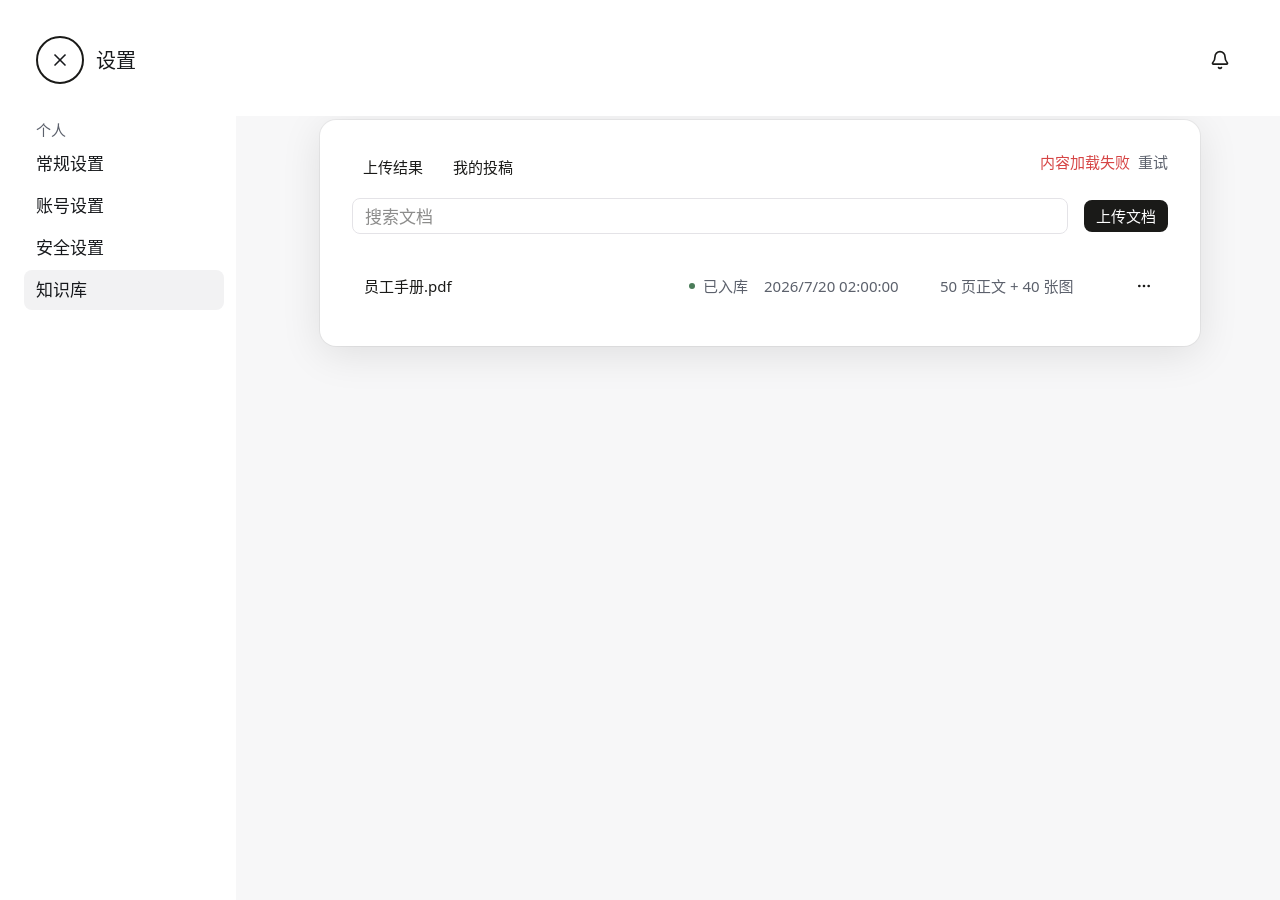
it: 抽屉作用域挂载与左栏新显示名（drawer-visual-system） › 抽屉内打开的 Radix 浮层根节点自带作用域属性（浮层不走 DOM 继承）
Note: 文档行「⋯」菜单：Radix DropdownMenu 默认 portal 到 document.body
Click the button named "文档 员工手册.pdf 操作" at x=1144, y=286, box left=1132, top=274, right=1156, bottom=298
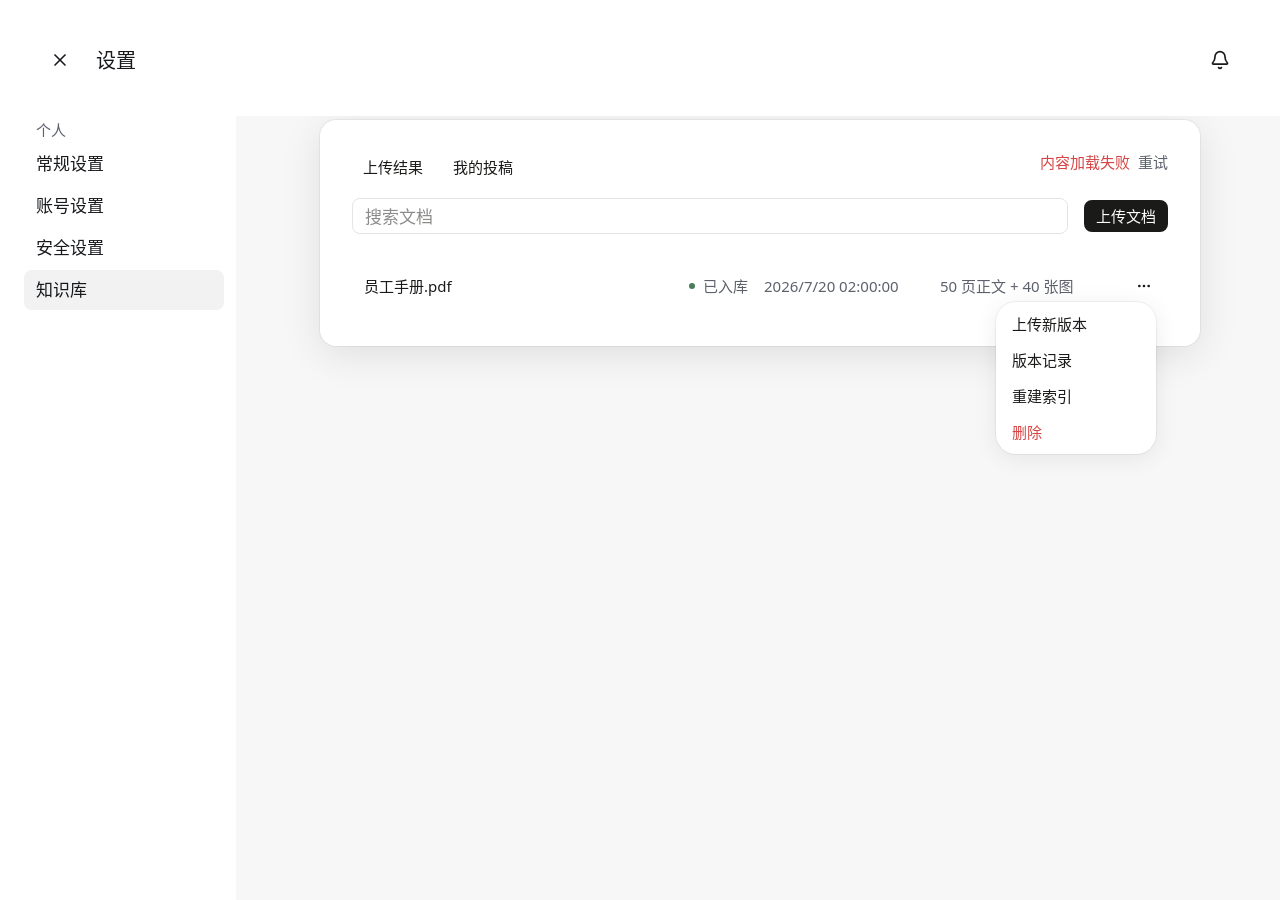
Expected: the menu is shown, left=996, top=302, right=1156, bottom=454
Note: 菜单入口打开的删除确认框：Radix Dialog 同样 portal 到 document.body
Click the menu item "删除" at x=1027, y=432, box left=1012, top=422, right=1042, bottom=442
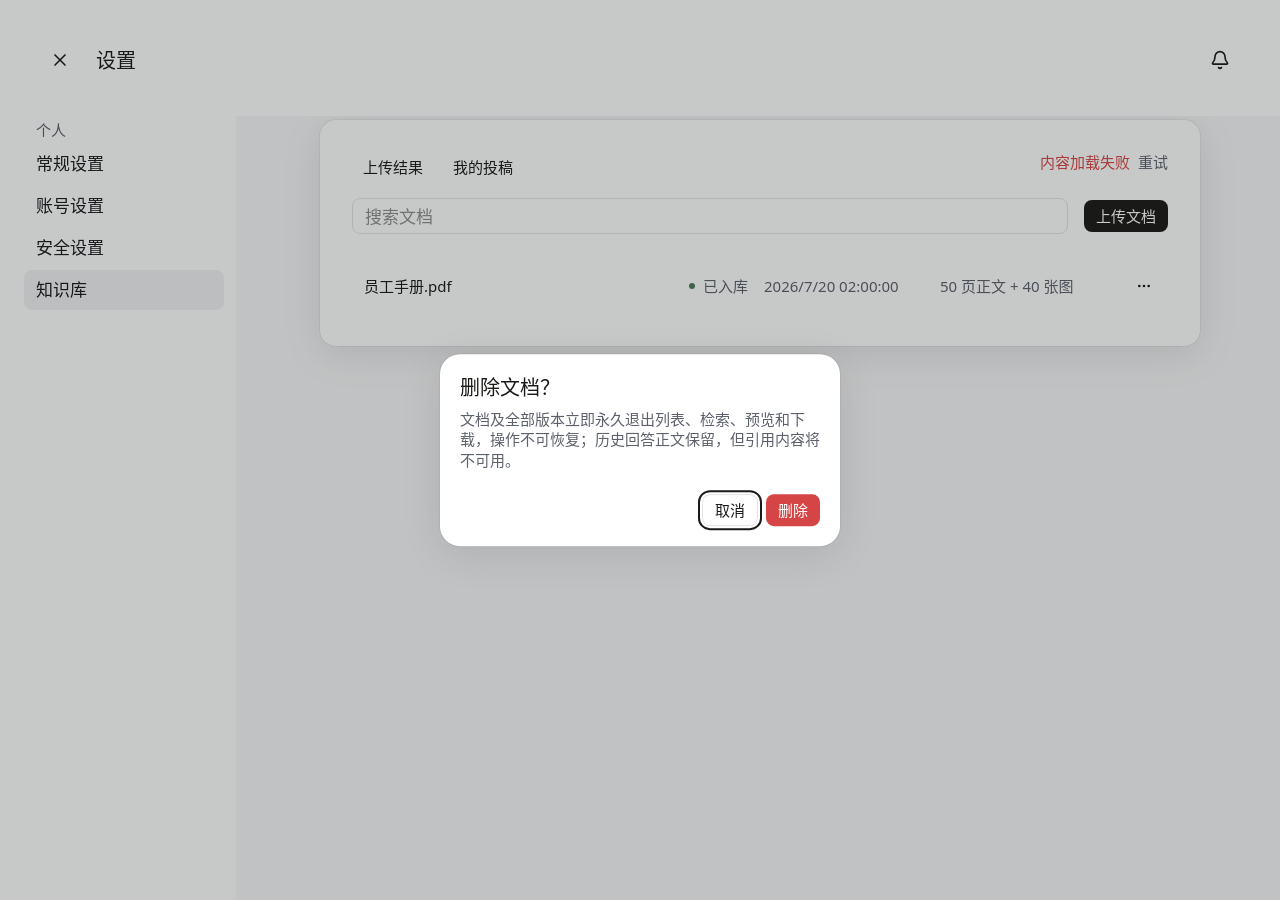
Expected: the dialog "删除文档？" is shown, left=440, top=354, right=840, bottom=546
